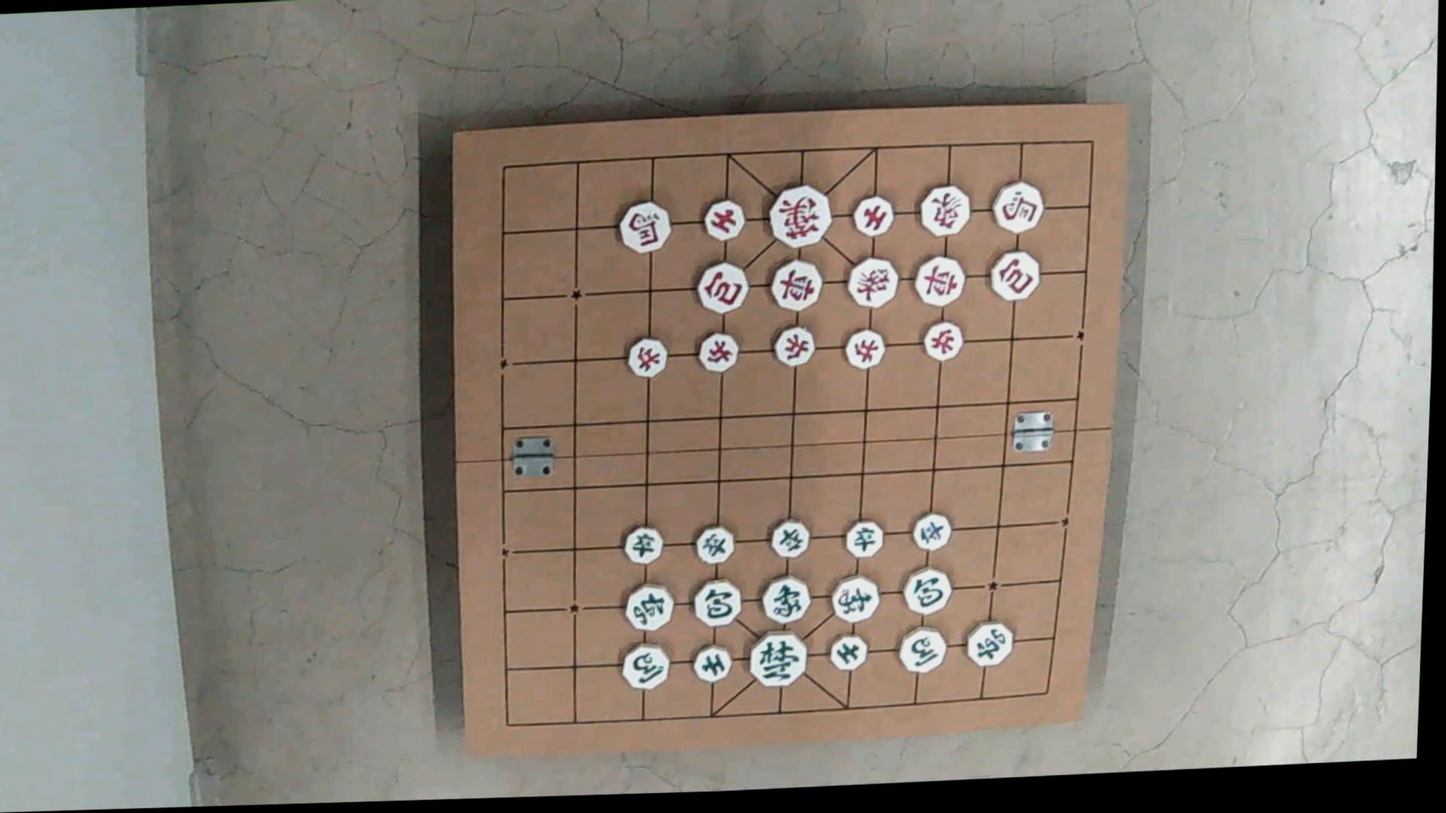cha_green: (621, 582, 673, 631), (964, 620, 1014, 666)
cha_red: (913, 254, 966, 306), (770, 258, 822, 310)
jol_green: (621, 525, 662, 564), (769, 518, 809, 557), (912, 511, 951, 550), (694, 525, 733, 563), (844, 519, 883, 557)
jol_red: (772, 324, 815, 367), (920, 319, 964, 361), (697, 330, 738, 373), (844, 327, 885, 368), (626, 336, 667, 377)
ma_green: (896, 625, 947, 673), (619, 642, 670, 690)
ma_red: (990, 180, 1043, 233), (618, 199, 670, 252)
po_green: (691, 577, 742, 627), (902, 566, 952, 615)
po_red: (694, 260, 748, 313), (988, 249, 1040, 300)
sa_green: (828, 632, 869, 670), (691, 644, 731, 682)
sa_red: (851, 194, 894, 236), (703, 198, 744, 240)
sang_green: (759, 574, 811, 624), (829, 574, 880, 622)
sang_red: (918, 184, 970, 236), (847, 256, 898, 307)
wang_green: (746, 629, 807, 687)
wang_red: (767, 184, 831, 248)
